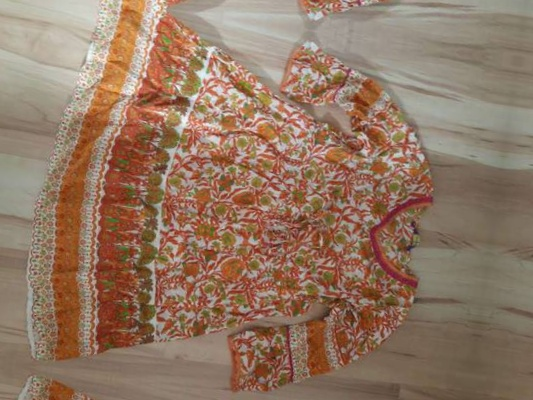Dress: (1, 0, 470, 400), (55, 0, 525, 50), (0, 369, 415, 400), (512, 71, 533, 400)
